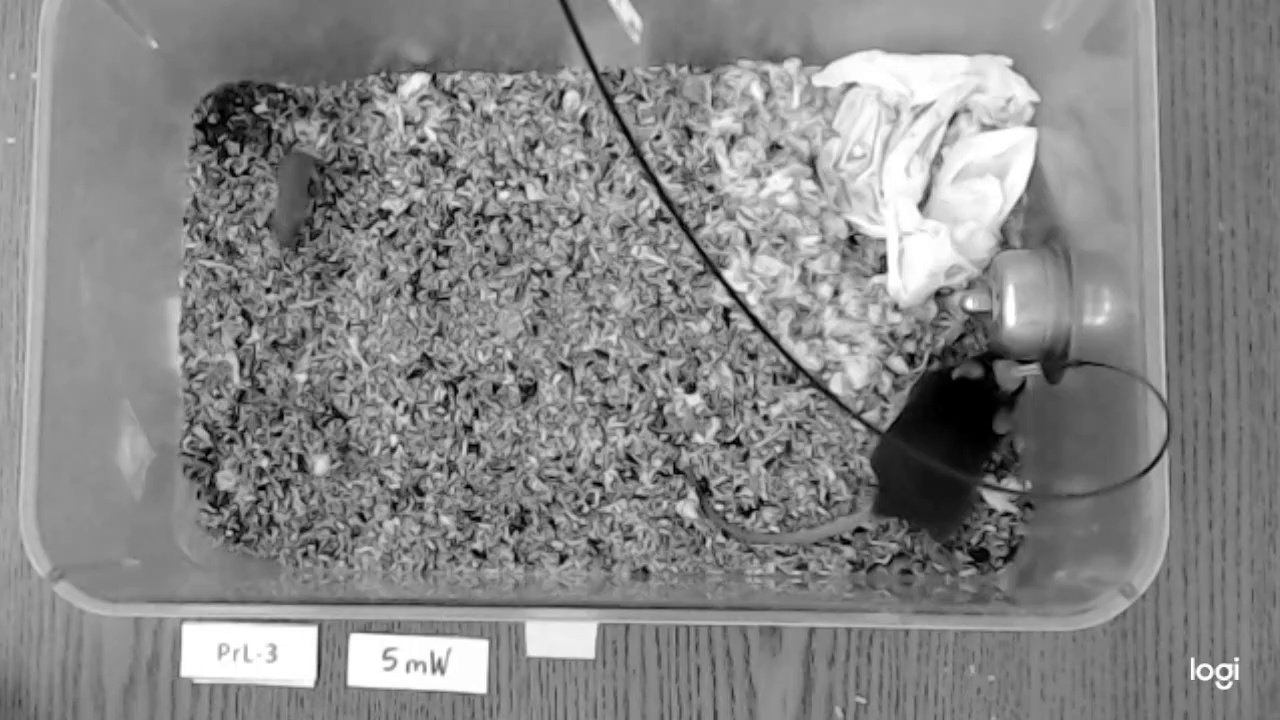child-mice: (272, 151, 321, 241)
